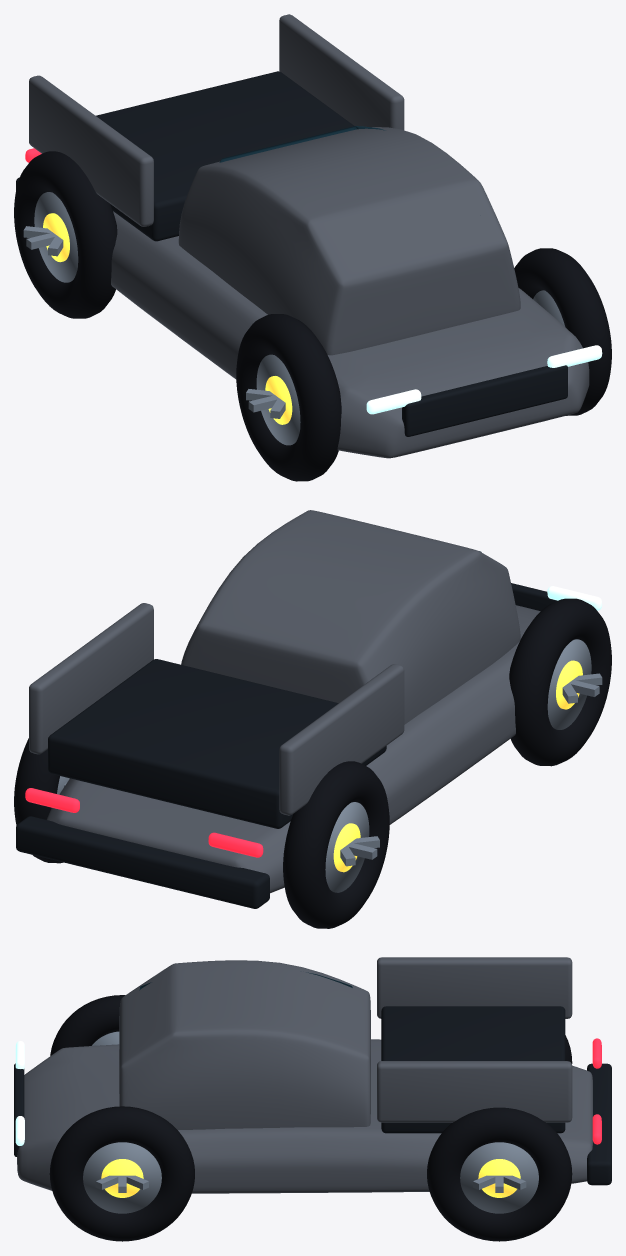
The model's file is rainline_irontrail_x_v2.glb.
The picture shows the model from 3 angles, top to bottom: view 1: azimuth 30°, elevation 25°; view 2: azimuth 150°, elevation 25°; view 3: azimuth 270°, elevation 25°; orthographic projection. The views are drawn at different scales.
Visible parts, largest first — view 1: Irontrail crew cab, Irontrail broad chassis, Irontrail open cargo bed, Irontrail performance tire, Irontrail performance tire.001, Irontrail bed rail, Irontrail bed rail.001, Irontrail performance tire.002, Irontrail grille, Irontrail alloy wheel, Irontrail alloy wheel.001, Irontrail head lamp (+4 smaller); view 2: Irontrail crew cab, Irontrail open cargo bed, Irontrail broad chassis, Irontrail performance tire.001, Irontrail performance tire, Irontrail bumper, Irontrail bed rail, Irontrail bed rail.001, Irontrail performance tire.003, Irontrail alloy wheel.001, Irontrail alloy wheel, Irontrail tail lamp (+5 smaller); view 3: Irontrail crew cab, Irontrail broad chassis, Irontrail bed rail.001, Irontrail performance tire.002, Irontrail open cargo bed, Irontrail performance tire.003, Irontrail bed rail, Irontrail alloy wheel.002, Irontrail alloy wheel.003, Irontrail performance tire, Irontrail bumper, Irontrail brake disc.003 (+2 smaller).
Boxes of the visible parts, box(x1,y1,x2,y2) form: Irontrail crew cab: box(178, 127, 520, 355); Irontrail broad chassis: box(111, 211, 589, 458); Irontrail open cargo bed: box(96, 71, 354, 241); Irontrail performance tire: box(236, 314, 341, 481); Irontrail performance tire.001: box(14, 151, 117, 318); Irontrail bed rail: box(29, 75, 153, 226); Irontrail bed rail.001: box(279, 14, 404, 130); Irontrail performance tire.002: box(514, 248, 611, 415); Irontrail grille: box(402, 365, 567, 436); Irontrail alloy wheel: box(256, 354, 300, 445); Irontrail alloy wheel.001: box(34, 192, 78, 282); Irontrail head lamp: box(366, 389, 421, 414); Irontrail crew cab: box(181, 510, 520, 724); Irontrail open cargo bed: box(48, 659, 386, 828); Irontrail broad chassis: box(46, 605, 540, 893); Irontrail performance tire.001: box(283, 761, 389, 928); Irontrail performance tire: box(509, 598, 611, 766); Irontrail bumper: box(16, 816, 269, 908); Irontrail bed rail: box(279, 664, 404, 815); Irontrail bed rail.001: box(29, 603, 153, 754); Irontrail performance tire.003: box(14, 738, 63, 863); Irontrail alloy wheel.001: box(325, 802, 369, 892); Irontrail alloy wheel: box(547, 639, 591, 729); Irontrail tail lamp: box(208, 832, 263, 857); Irontrail crew cab: box(119, 960, 370, 1129); Irontrail broad chassis: box(17, 1039, 592, 1193); Irontrail bed rail.001: box(377, 1061, 572, 1122); Irontrail performance tire.002: box(49, 1106, 194, 1241); Irontrail open cargo bed: box(381, 1006, 565, 1133); Irontrail performance tire.003: box(427, 1107, 572, 1241); Irontrail bed rail: box(377, 957, 572, 1018); Irontrail alloy wheel.002: box(83, 1142, 161, 1213); Irontrail alloy wheel.003: box(460, 1142, 538, 1213); Irontrail performance tire: box(50, 995, 125, 1055); Irontrail bumper: box(587, 1063, 611, 1185); Irontrail brake disc.003: box(478, 1159, 520, 1197).
Bounding box in the file's own units: 2.98 × 1.85 × 5.26.
